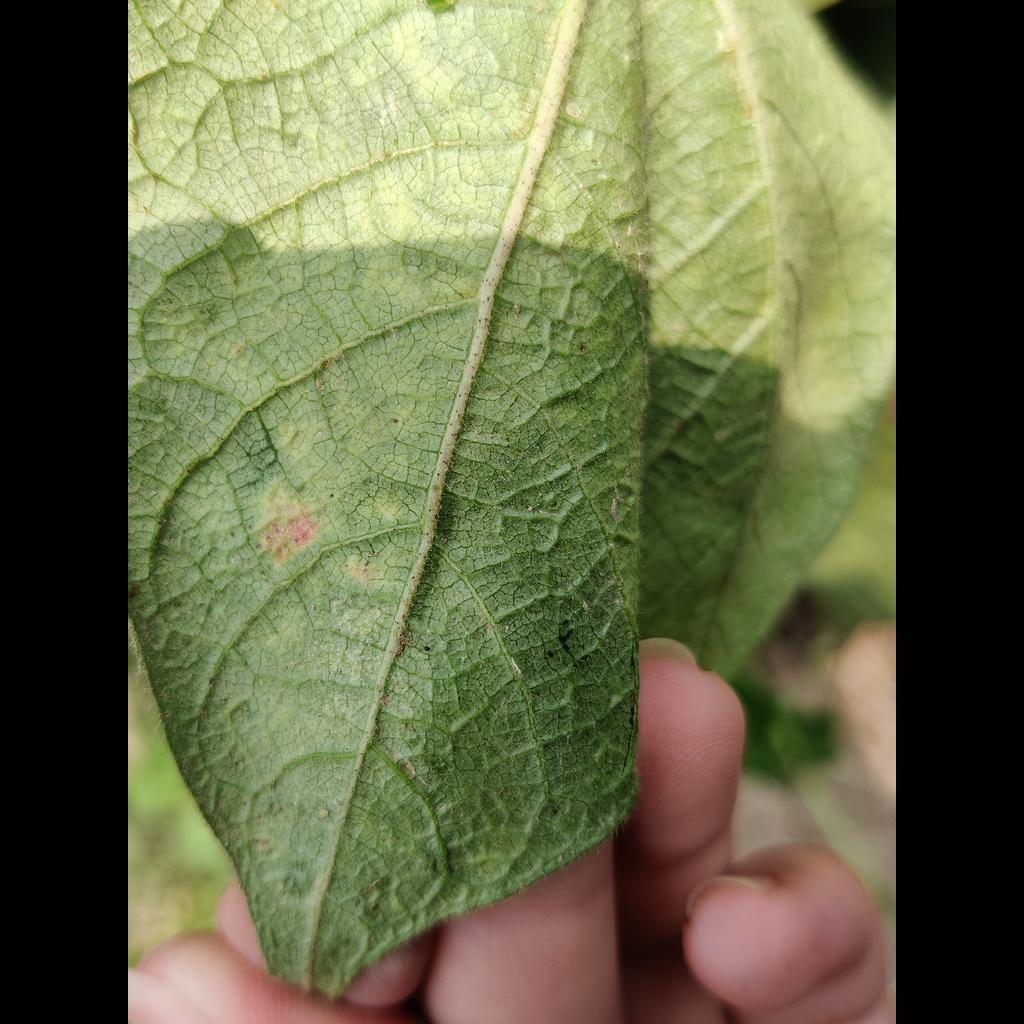nymph: (317, 809, 329, 818)
